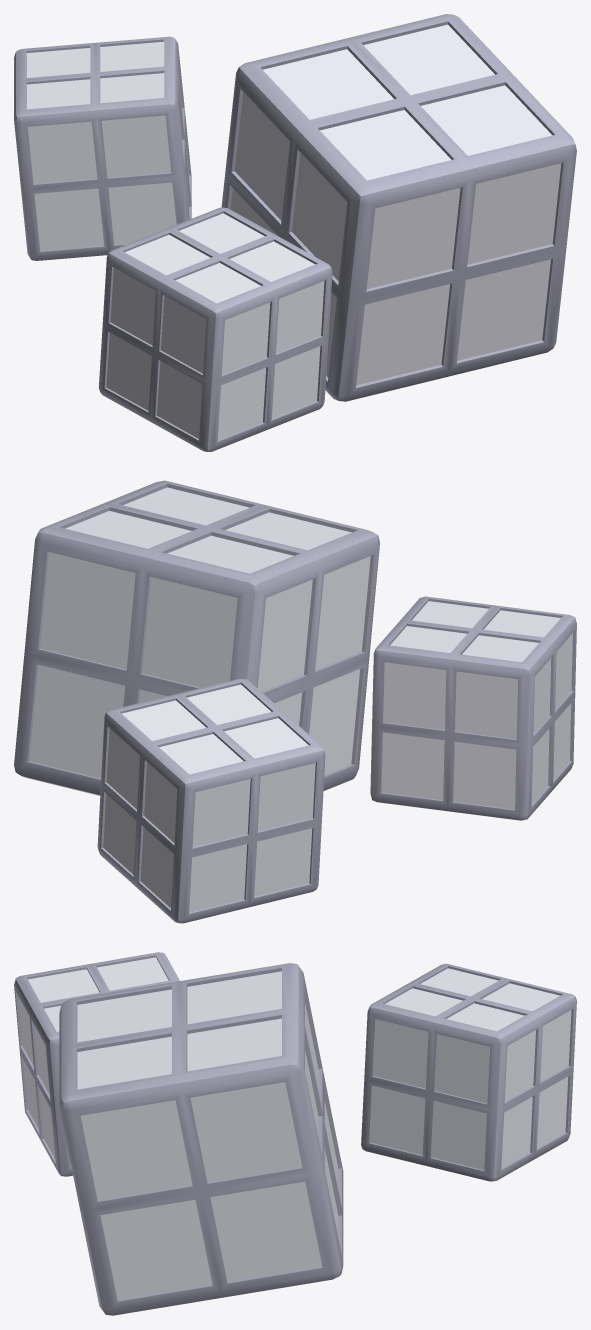
The model's file is Boxes_1.fbx.
The picture shows the model from 3 angles, top to bottom: view 1: azimuth 30°, elevation 25°; view 2: azimuth 150°, elevation 25°; view 3: azimuth 270°, elevation 25°; orthographic projection. The views are drawn at different scales.
Parts seen in each view (by area): view 1: Boxes_1; view 2: Boxes_1; view 3: Boxes_1.
Part boxes in pixels (x1,y1,x2,y2): Boxes_1: [14, 14, 576, 451]; Boxes_1: [14, 480, 576, 923]; Boxes_1: [14, 952, 576, 1315].
Bounding box in the file's own units: 9.93 × 6 × 11.9.
